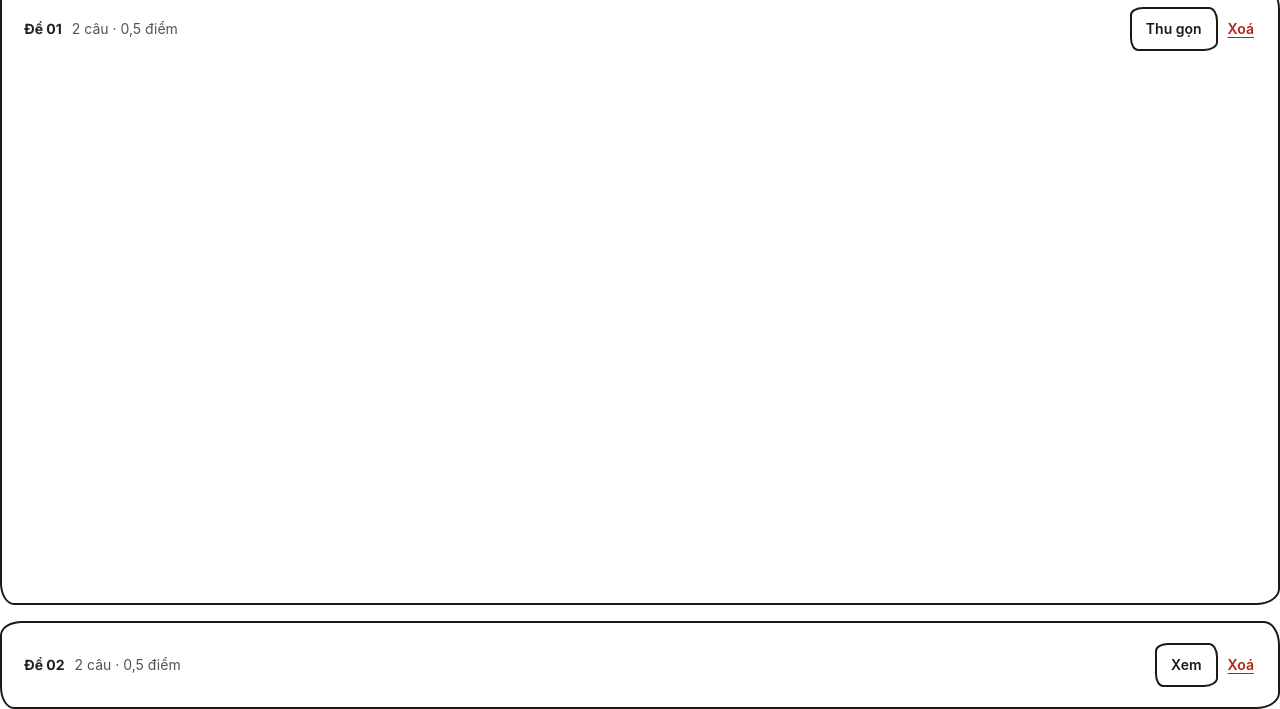
Test: BankPapers (Nguyên đề) › several shared_info items sit under ONE "Cho biết" label, the real <b>Cho biết</b>: prefix is stripped
The image size is (1280, 709).
(page scrolled)
Click the button "Xem" at (1186, 665), box [1155,643,1218,687]
(page scrolled)
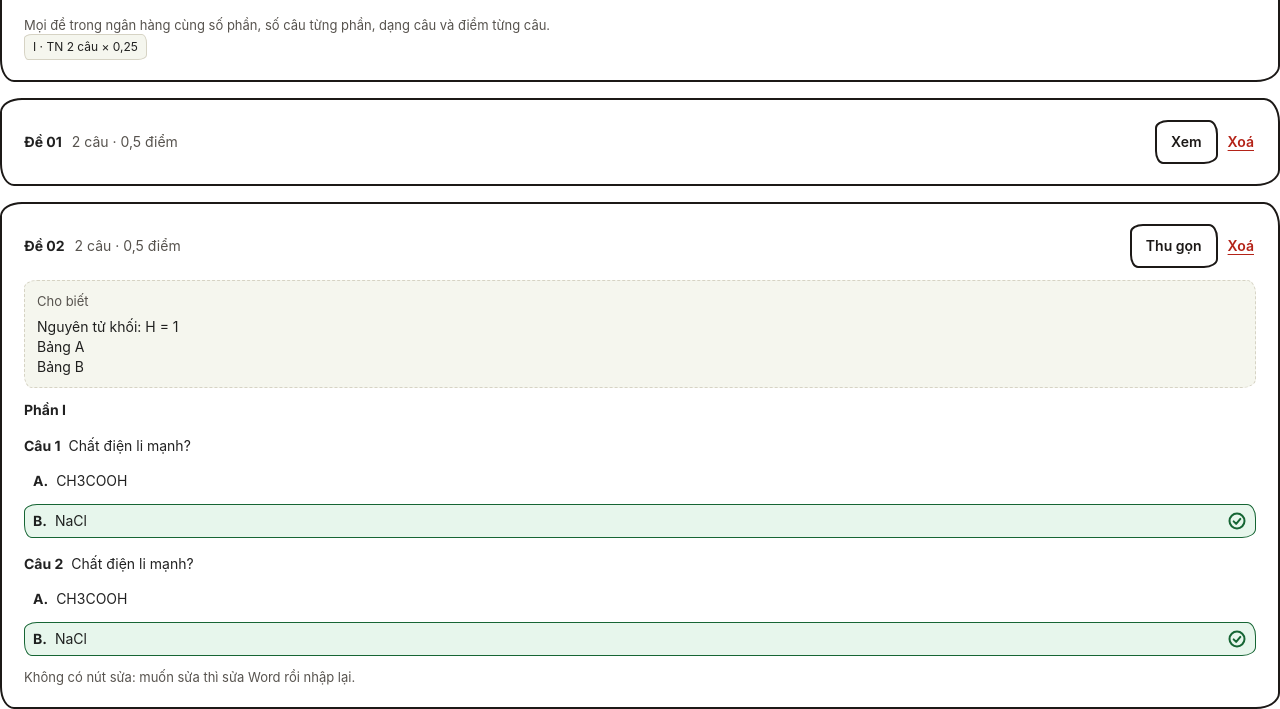
Expected: the text "Nguyên tử khối: H = 1" is shown, [37,318,178,335]
Expected: the text "Cho biết" is shown once, [37,293,89,309]
Expected: the text "Bảng B" is shown, [37,358,84,375]
